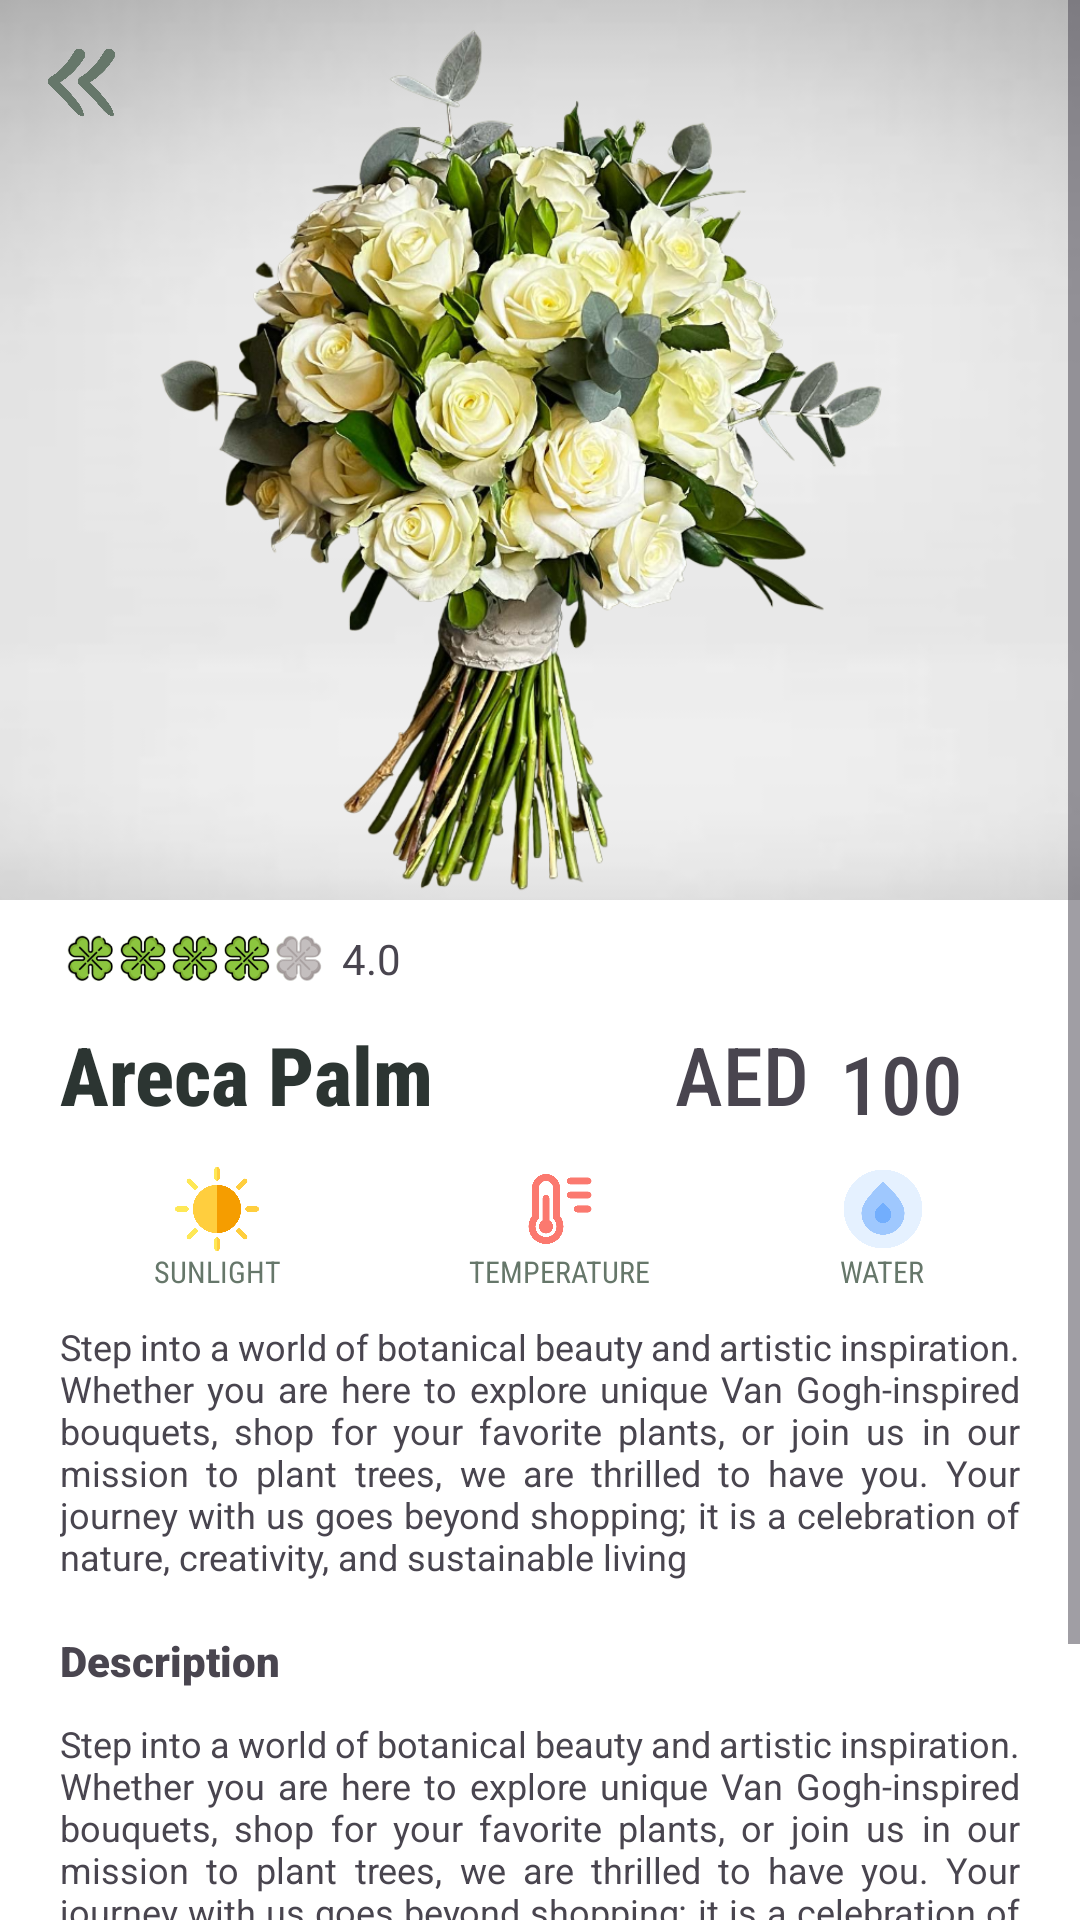

Locate icon controls on the screen. Image size 1080px x 1920px, boxes as (x1, y1, x2, y2).
back arrow: (48, 49, 115, 116)
four star rating: (68, 935, 321, 981)
